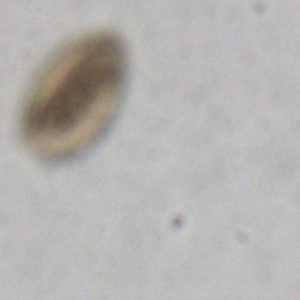Fasciola_hepatica_egg: (19, 28, 129, 165)
